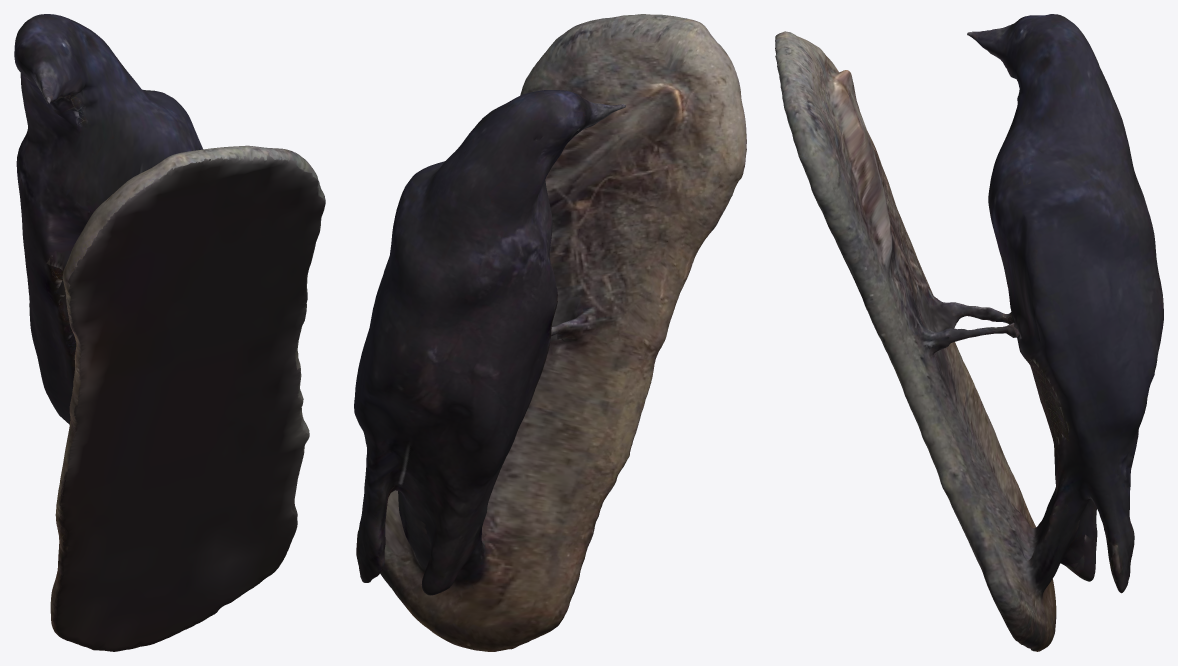
File: crow.glb
The picture shows the model from 3 angles, left to right: view 1: azimuth 30°, elevation 25°; view 2: azimuth 150°, elevation 25°; view 3: azimuth 270°, elevation 25°; orthographic projection. The views are drawn at different scales.
Parts seen in each view (by area): view 1: model_mesh; view 2: model_mesh; view 3: model_mesh.
Boxes of the visible parts, x1,y1,x2,y2 form: model_mesh: (14, 14, 325, 651); model_mesh: (354, 14, 746, 651); model_mesh: (775, 14, 1163, 651).
Bounding box in the file's own units: 0.2234 × 0.4256 × 0.2578.
1 material, 1 textured.
